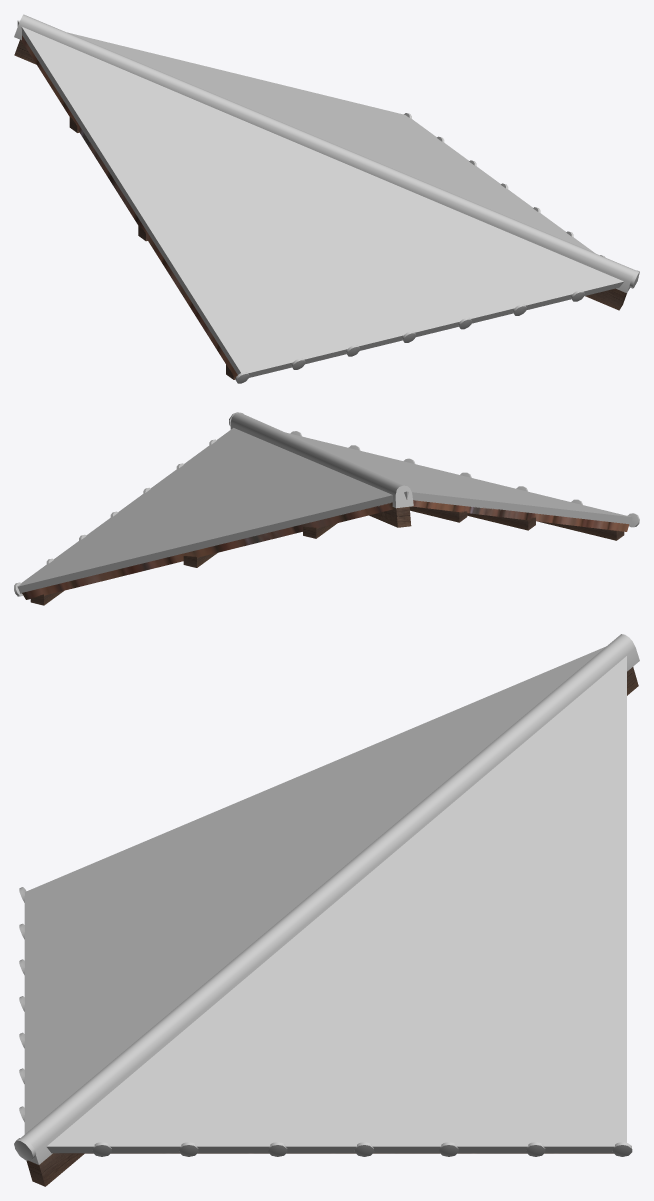
Rendered from kawara_2x3t_a1corner_vex.fbx.
The picture shows the model from 3 angles, top to bottom: view 1: azimuth 30°, elevation 25°; view 2: azimuth 150°, elevation 25°; view 3: azimuth 270°, elevation 25°; orthographic projection. The views are drawn at different scales.
Visible parts, largest first — view 1: kawara_2x3t_a1corner_vex; view 2: kawara_2x3t_a1corner_vex; view 3: kawara_2x3t_a1corner_vex.
Part boxes in pixels (box(x1,y1,x2,y2)): kawara_2x3t_a1corner_vex: box(14, 14, 639, 383); kawara_2x3t_a1corner_vex: box(14, 412, 639, 605); kawara_2x3t_a1corner_vex: box(14, 634, 639, 1186).
Bounding box in the file's own units: 396 × 210 × 395.
